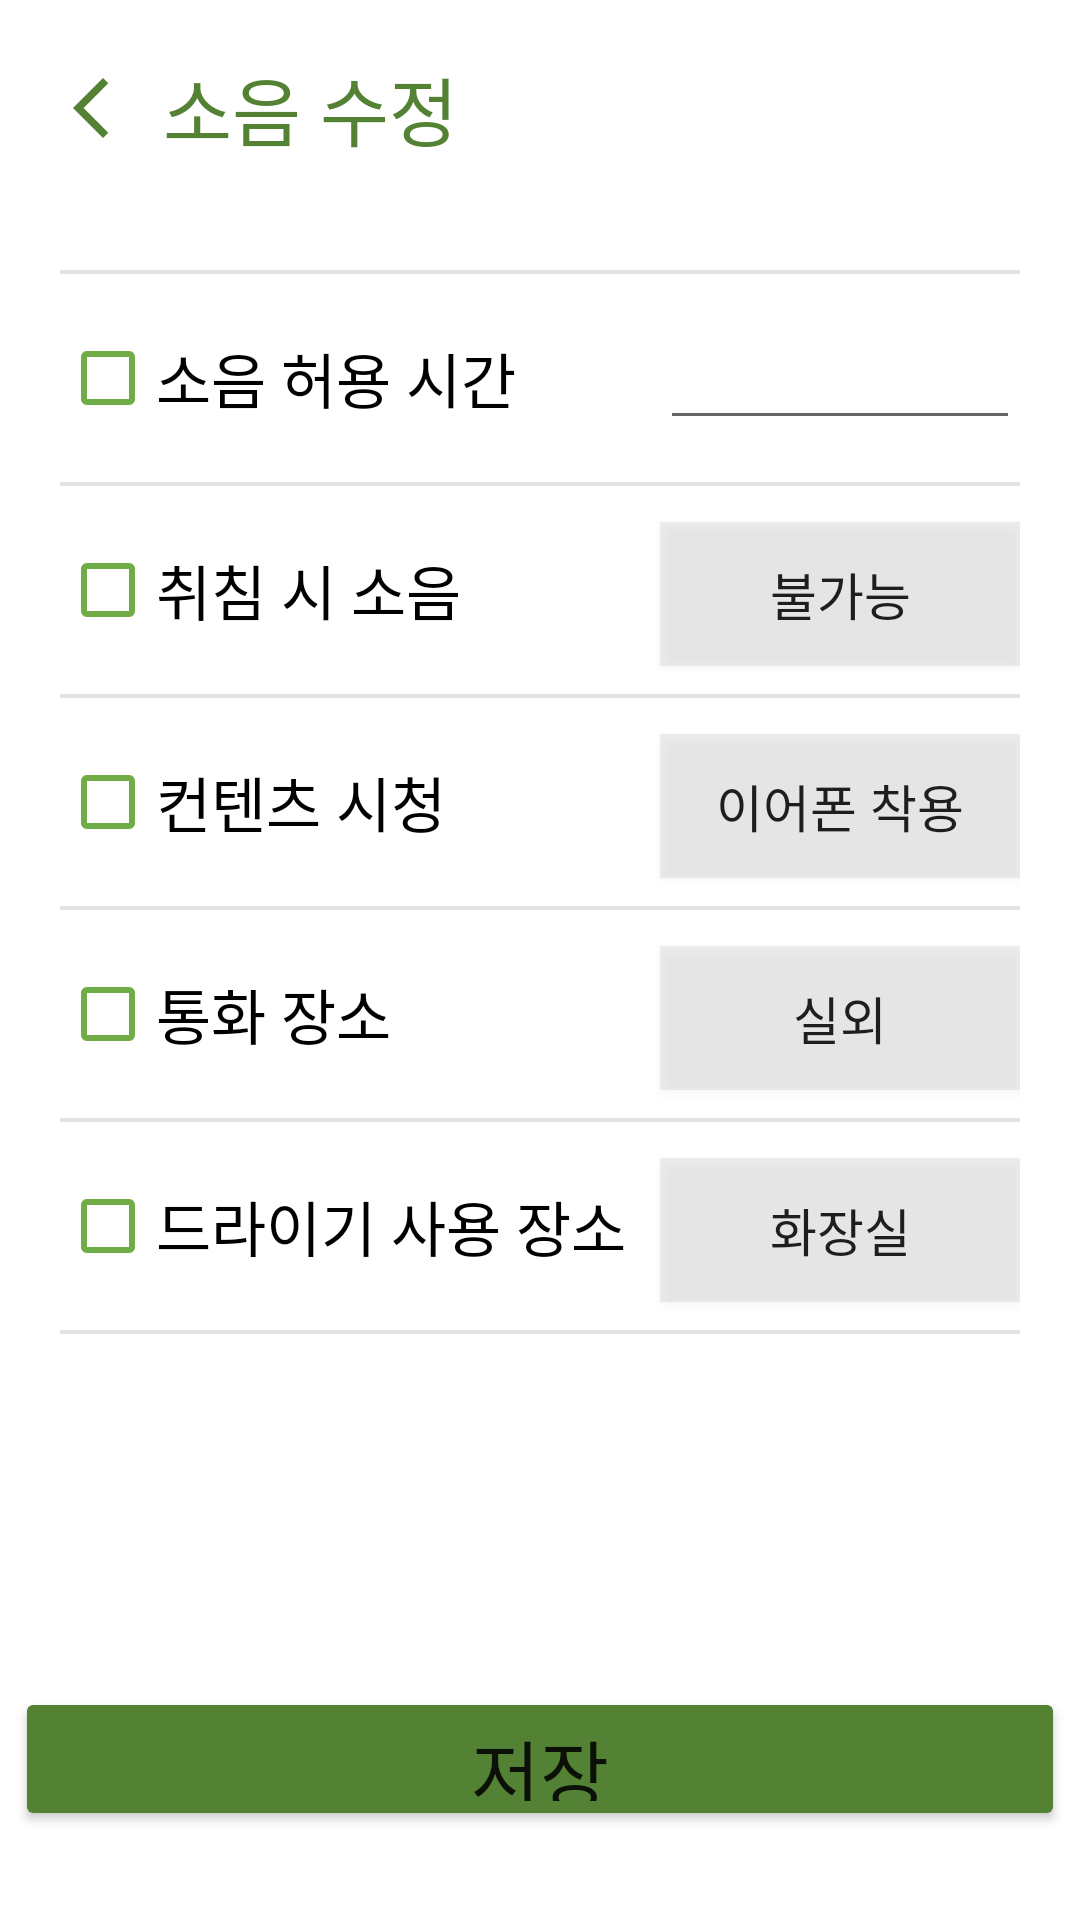

Point at icon controls on the screen. Image size 1080px x 1920px, points as point (x, y).
back: point (90, 108)
